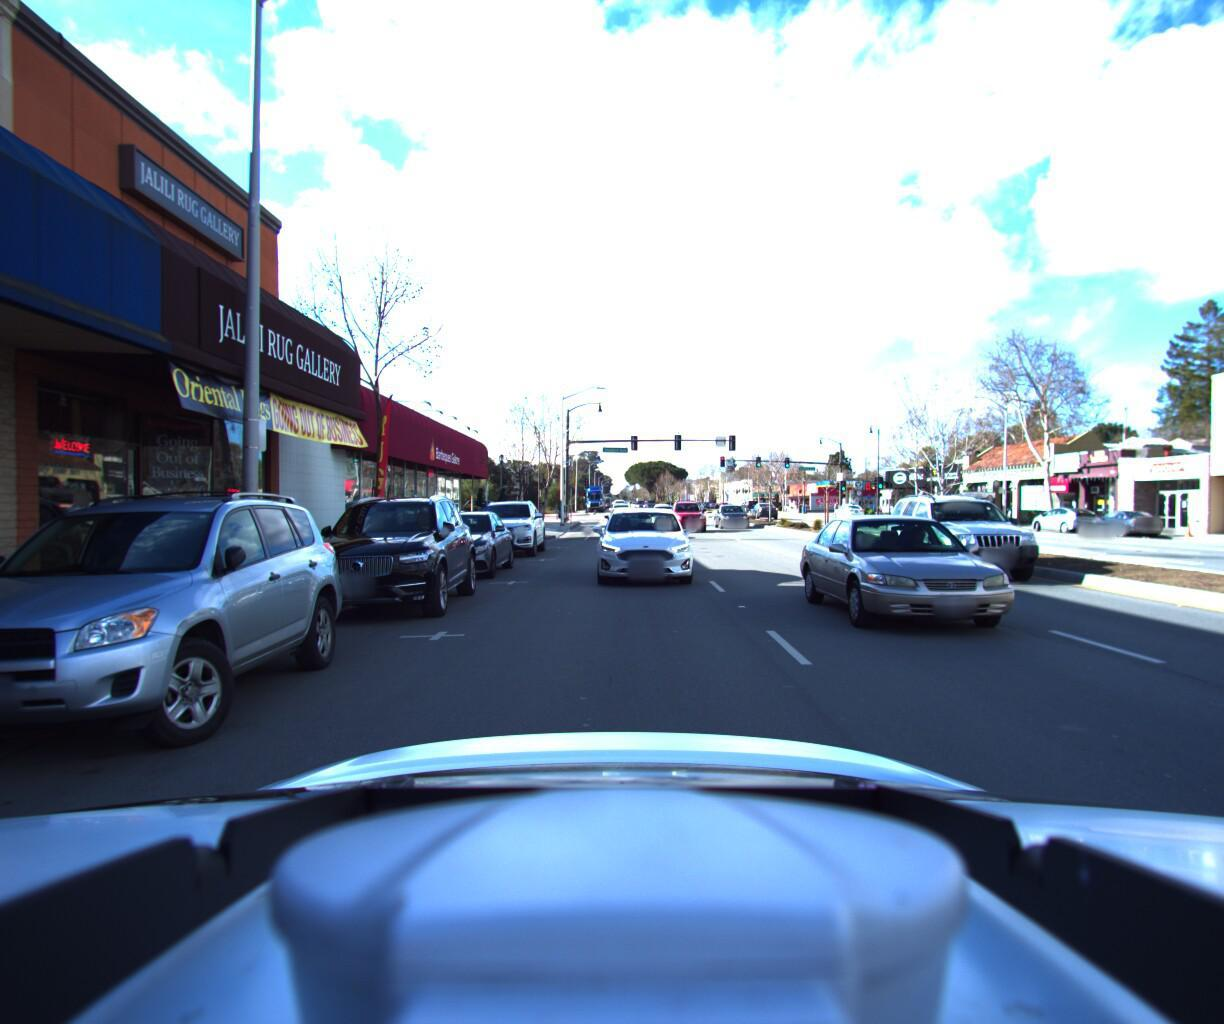car: (810, 494, 1115, 660), (287, 490, 481, 633), (898, 491, 1098, 596), (597, 506, 700, 592), (403, 513, 518, 587), (468, 502, 547, 562), (1082, 513, 1168, 541), (944, 486, 1001, 528), (1026, 508, 1102, 535), (669, 501, 714, 535), (712, 500, 756, 531), (829, 504, 861, 521), (749, 504, 780, 521)
